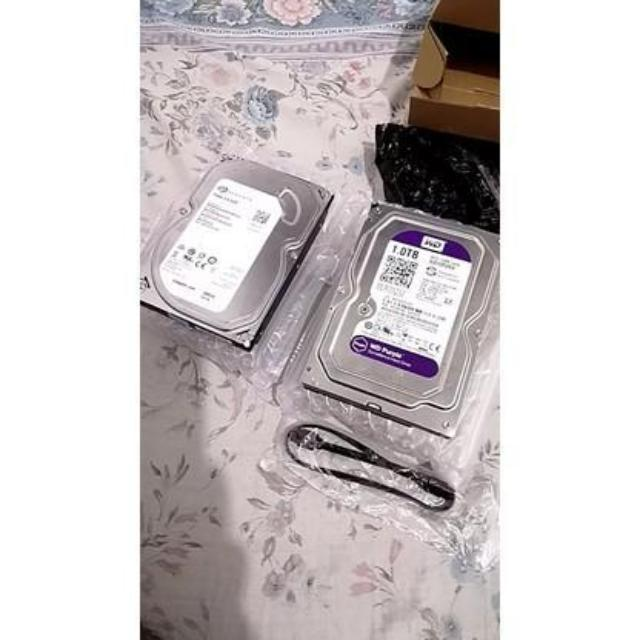DISK: (312, 197, 498, 448), (133, 146, 335, 366)
